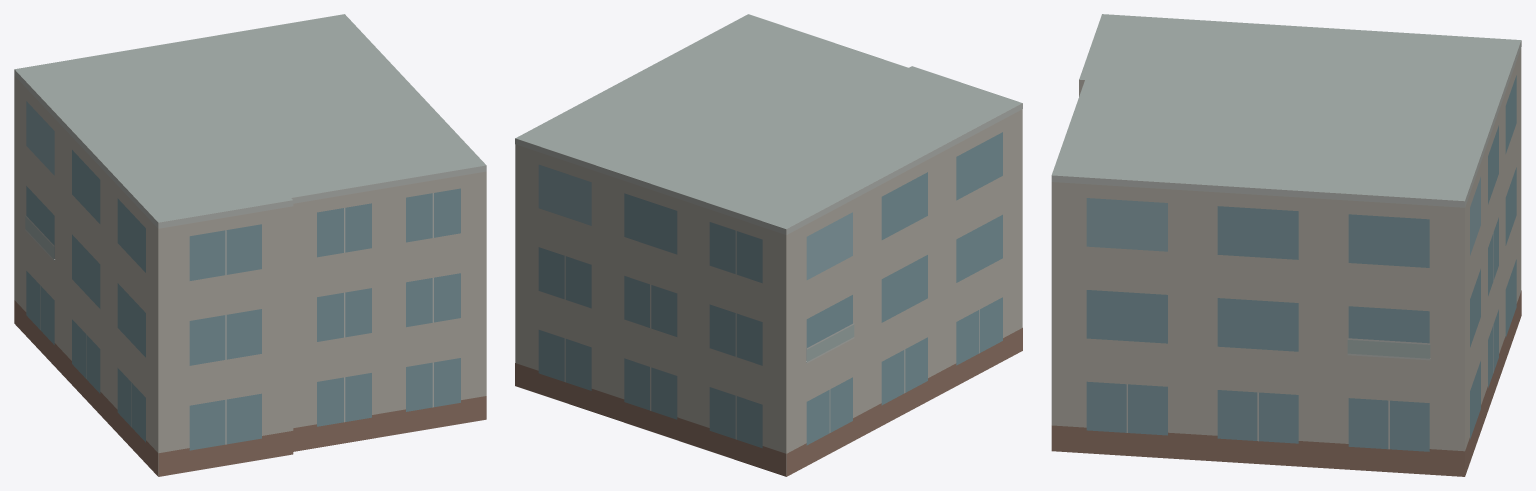
Rendered from survey-upis-32838294.glb.
The picture shows the model from 3 angles, left to right: view 1: azimuth 30°, elevation 25°; view 2: azimuth 150°, elevation 25°; view 3: azimuth 270°, elevation 25°; orthographic projection. The views are drawn at different scales.
Parts seen in each view (by area): view 1: survey-upis-32838294.tmp; view 2: survey-upis-32838294.tmp; view 3: survey-upis-32838294.tmp.
Boxes of the visible parts, left/top/right/bottom form: survey-upis-32838294.tmp: left=14, top=14, right=486, bottom=476; survey-upis-32838294.tmp: left=515, top=14, right=1022, bottom=476; survey-upis-32838294.tmp: left=1051, top=14, right=1521, bottom=476.
Bounding box in the file's own units: 14.86 × 10.2 × 15.77.
